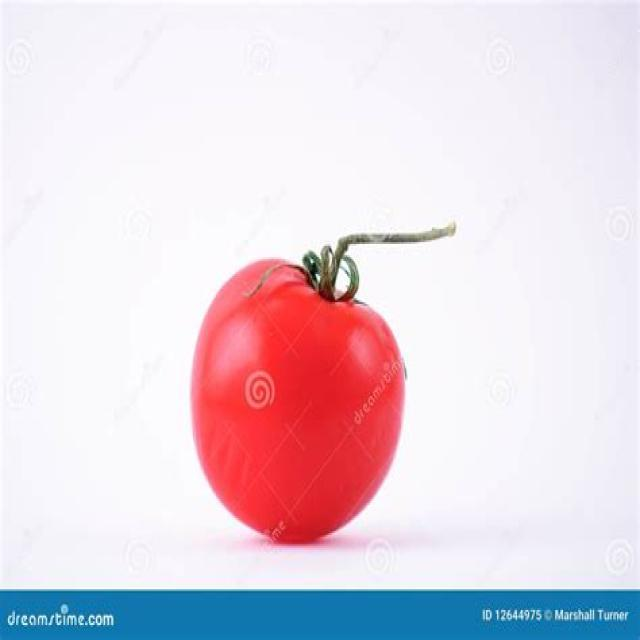Tomato: (188, 231, 452, 546)
